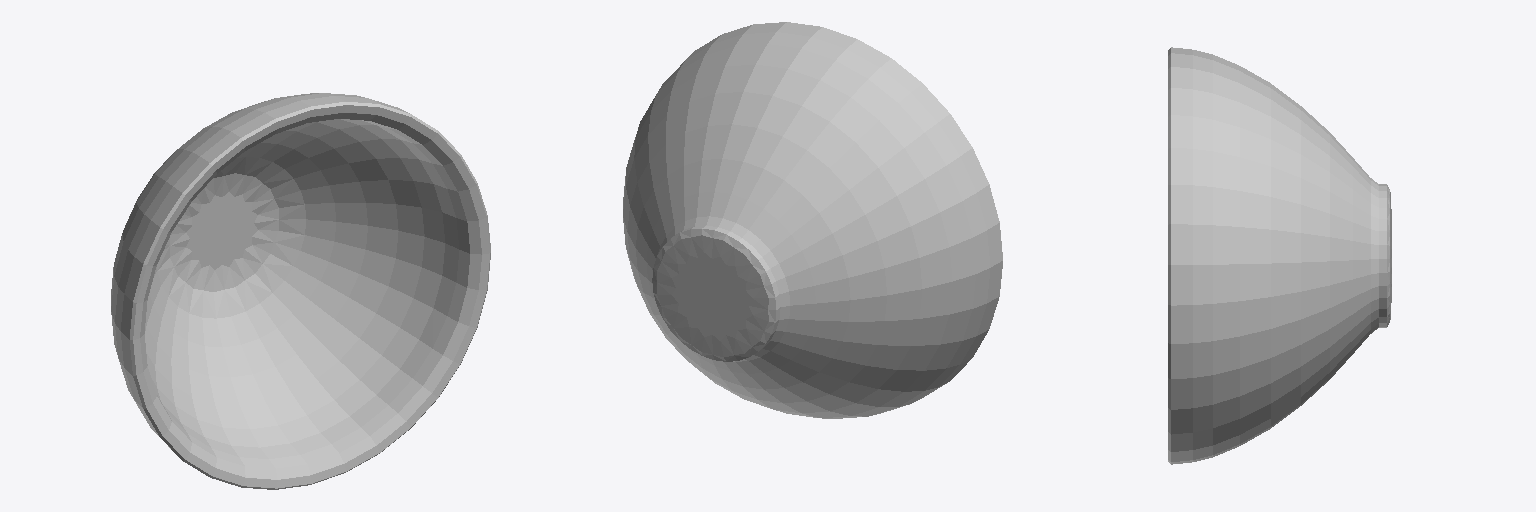
File: Cup2.obj
3 renders of one model, left to right at view 1: azimuth 30°, elevation 25°; view 2: azimuth 150°, elevation 25°; view 3: azimuth 270°, elevation 25°, orthographic.
Parts seen in each view (by area): view 1: Cup2_Cylinder.003; view 2: Cup2_Cylinder.003; view 3: Cup2_Cylinder.003.
Boxes of the visible parts, x1=… form: Cup2_Cylinder.003: x1=111, y1=93, x2=490, y2=489; Cup2_Cylinder.003: x1=623, y1=22, x2=1002, y2=418; Cup2_Cylinder.003: x1=1168, y1=47, x2=1391, y2=464.
Size of the model in its own units: 0.4973 by 0.4973 by 0.2655.